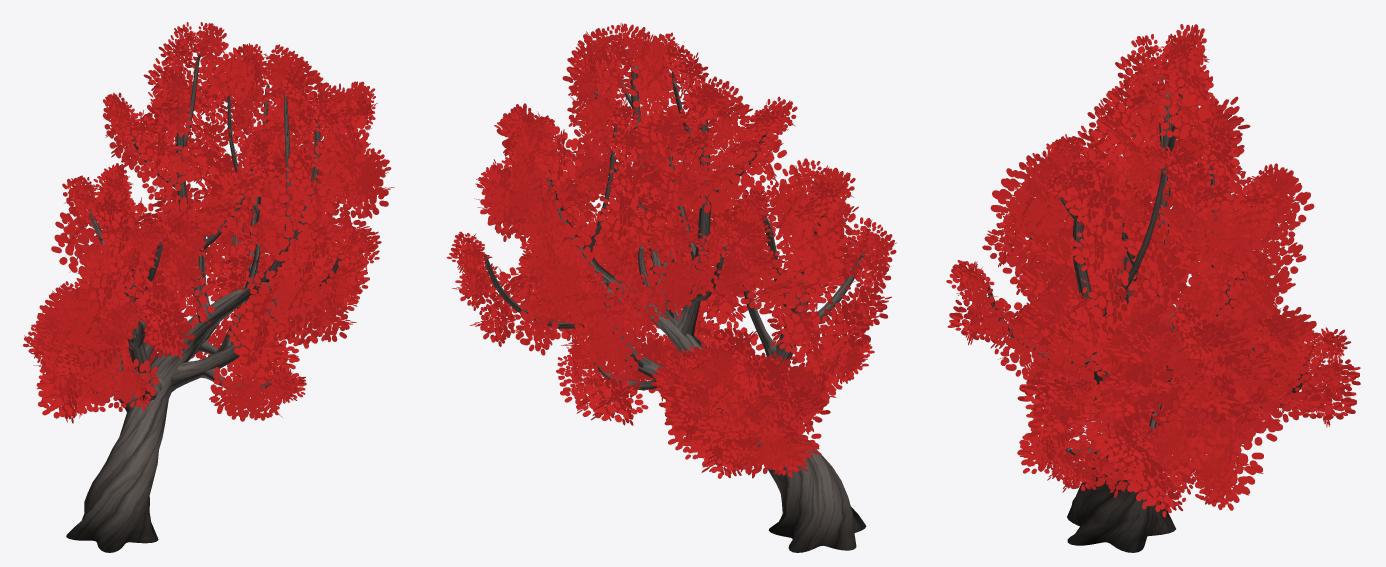
File: TwistedTree_1.glb
3 renders of one model, left to right at view 1: azimuth 30°, elevation 25°; view 2: azimuth 150°, elevation 25°; view 3: azimuth 270°, elevation 25°, orthographic. The views are drawn at different scales.
Size of the model in its own units: 13.52 by 16.73 by 11.55.
Materials: 2 (2 with a texture image).
